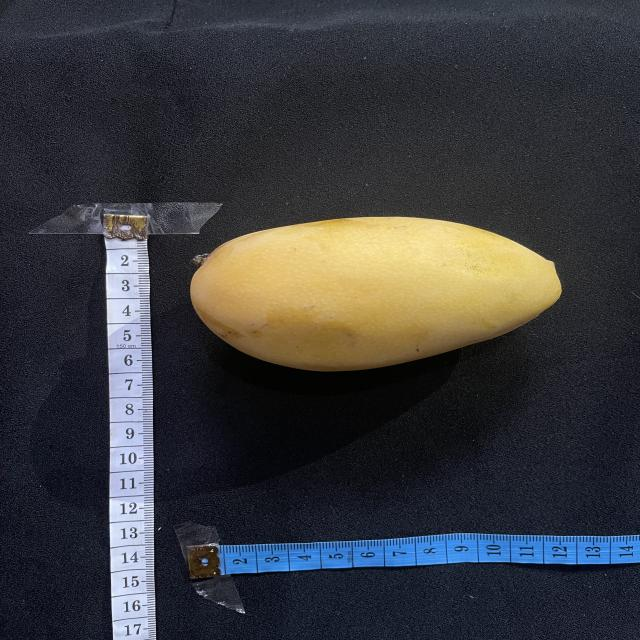Ripe: (190, 217, 561, 371)
